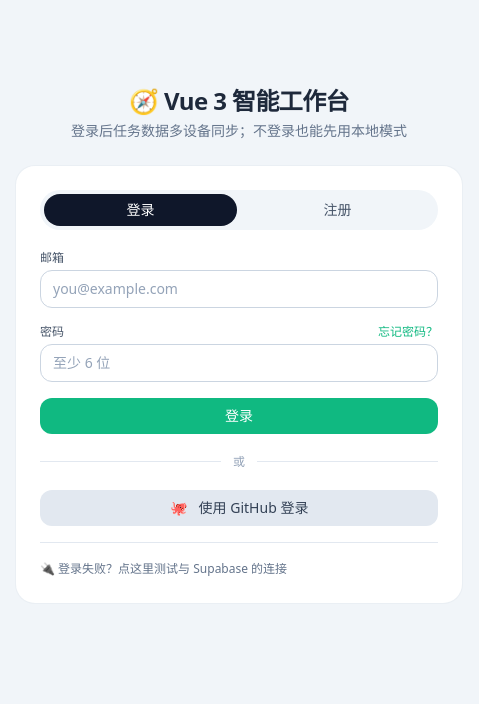
Test: Login 页 › 注册 › 需要邮箱验证时给出「重新发送」入口，并说明慢/进垃圾箱是常态
Click the button with test id "login-tab-signup": (338, 210) [241, 194, 434, 226]
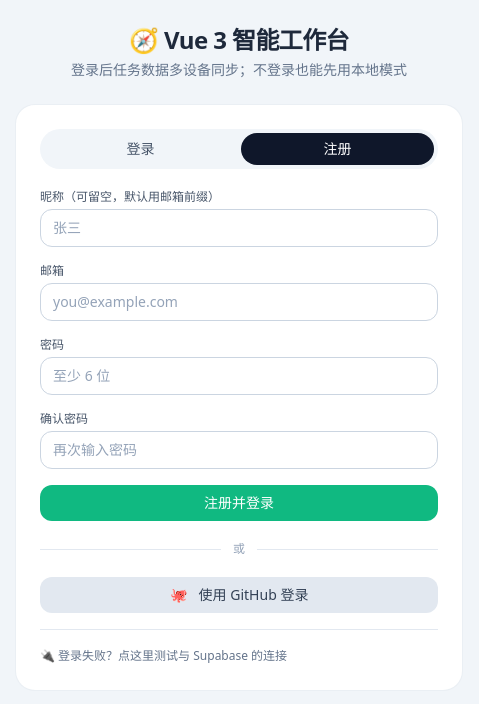
In the field with placeholder "you@example.com": (239, 302) [40, 283, 438, 321], type "zhang@example.com"
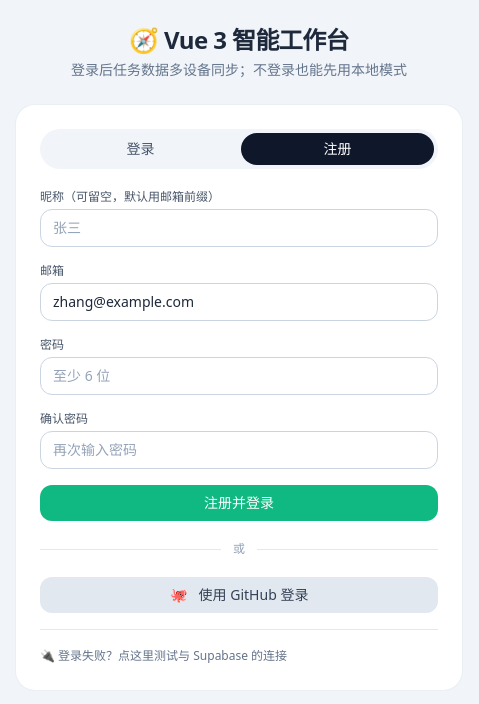
In the password field with placeholder "至少 6 位": (239, 376) [40, 357, 438, 395], type "pw123456"
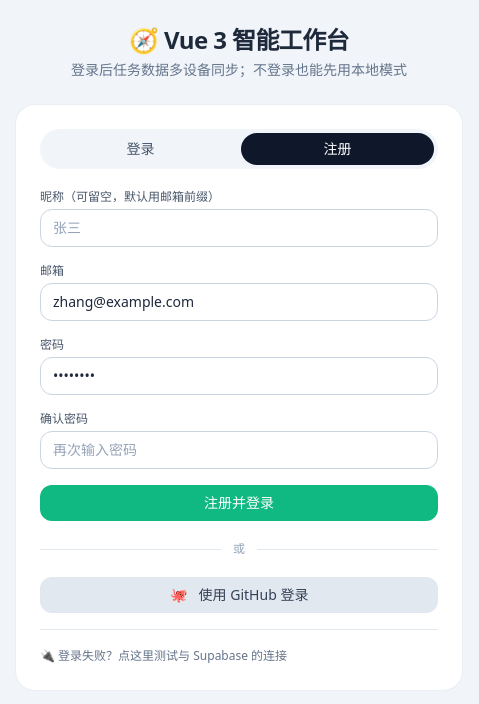
In the password field with placeholder "再次输入密码": (239, 450) [40, 431, 438, 469], type "pw123456"
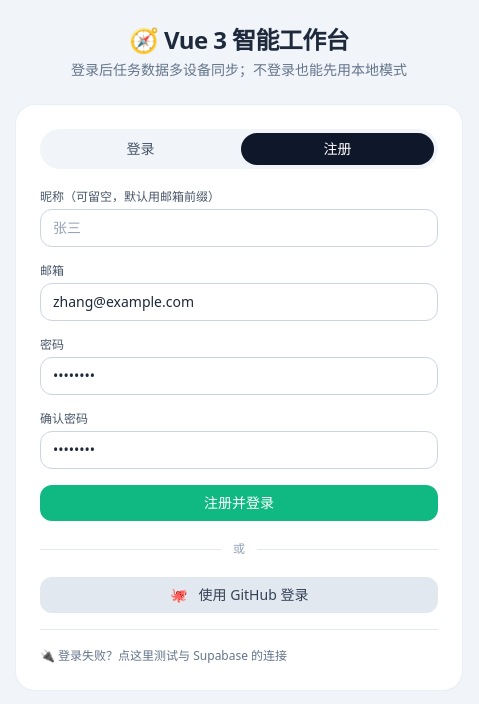
Submit the form, box [40, 189, 438, 521]
(page scrolled)
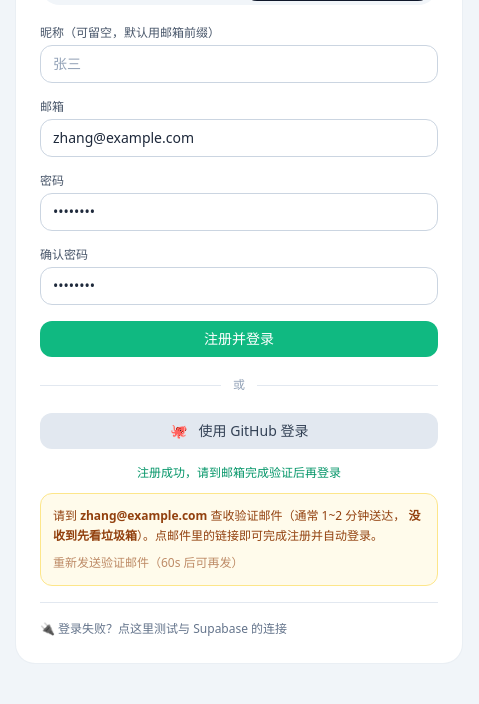
Now the element with test id "login-pending-confirm" shows "zhang@example.com", box [80, 507, 207, 524]
Now the element with test id "login-pending-confirm" shows "垃圾箱", box [40, 493, 438, 586]
Now the button with test id "login-resend-confirm" is disabled, box [53, 553, 244, 572]
